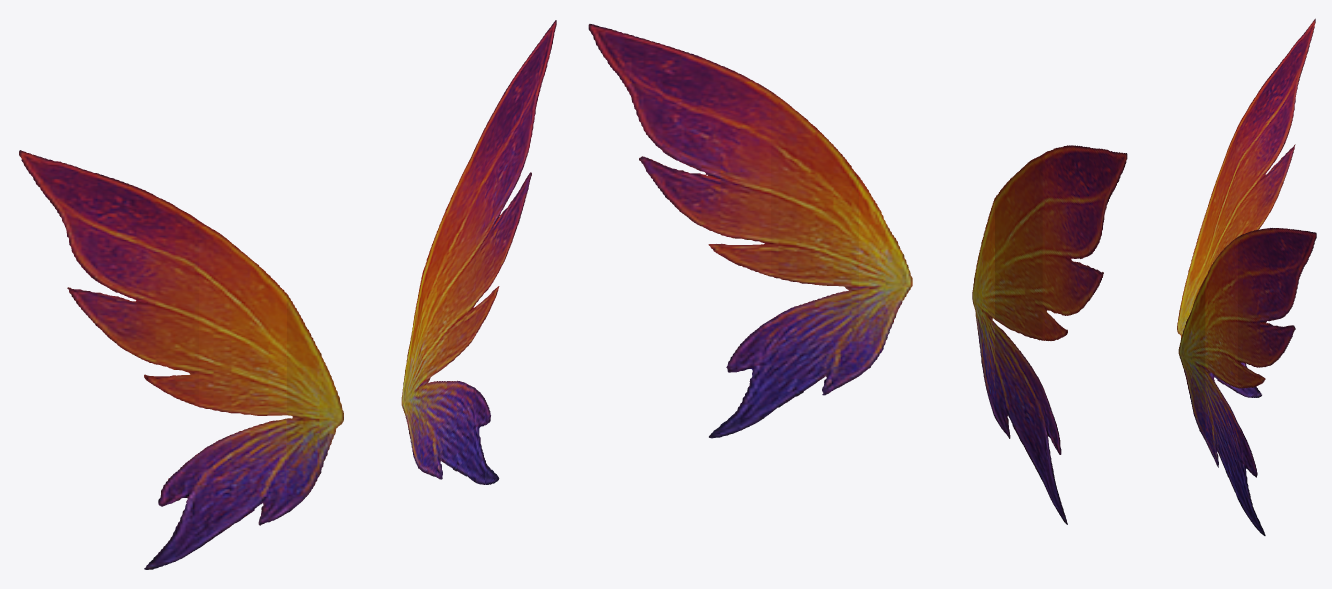
The model's file is canh 5.fbx.
The picture shows the model from 3 angles, left to right: view 1: azimuth 30°, elevation 25°; view 2: azimuth 150°, elevation 25°; view 3: azimuth 270°, elevation 25°; orthographic projection. The views are drawn at different scales.
Visible parts, largest first — view 1: 5; view 2: 5; view 3: 5.
Boxes of the visible parts, x1,y1,x2,y2 form: 5: (19, 20, 556, 569); 5: (588, 24, 1127, 524); 5: (1177, 18, 1316, 535).
Bounding box in the file's own units: 1.51 × 1.12 × 0.4691.
